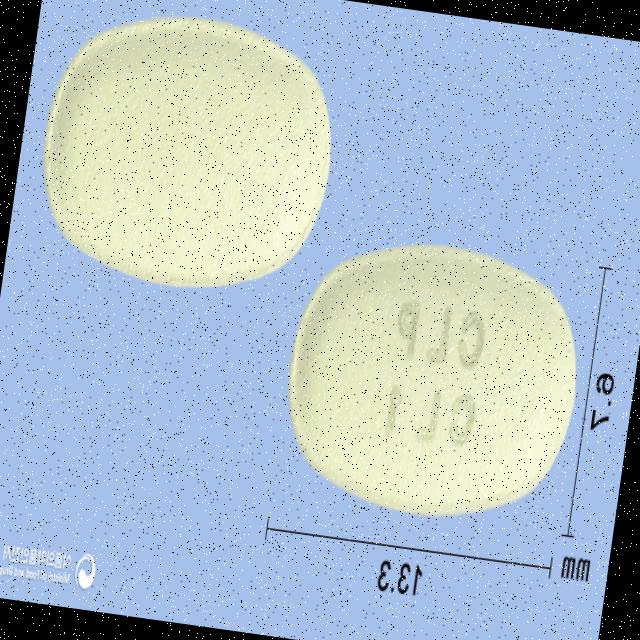Celltrion Clarithromycin - 500mg: (270, 222, 596, 540), (22, 0, 351, 313)
